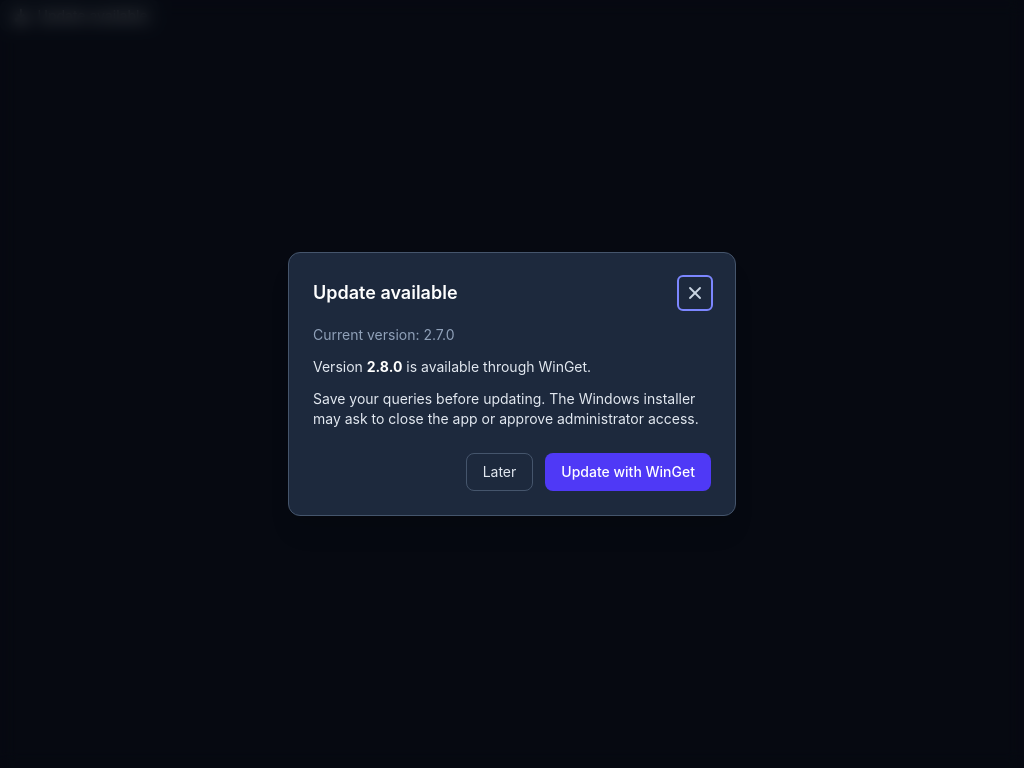
it: AppUpdate popup › starts installation only after clicking Update and displays restart after success
This screenshot has width=1024, height=768.
What coordinates should you click on to do the following:
click the button "Update with WinGet"
I would click on:
 (628, 472)
Its box is left=545, top=453, right=711, bottom=491.
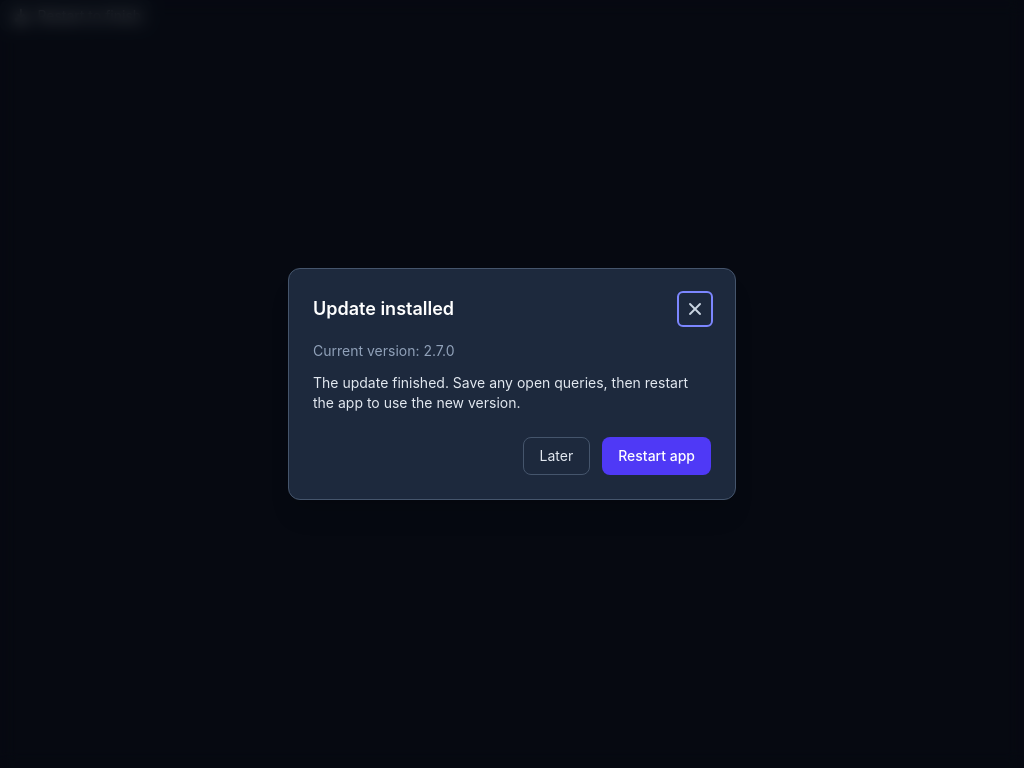
Check: the dialog shows "Update installed", box left=313, top=298, right=454, bottom=319
Check: the dialog shows "Restart app", box left=602, top=437, right=711, bottom=475
